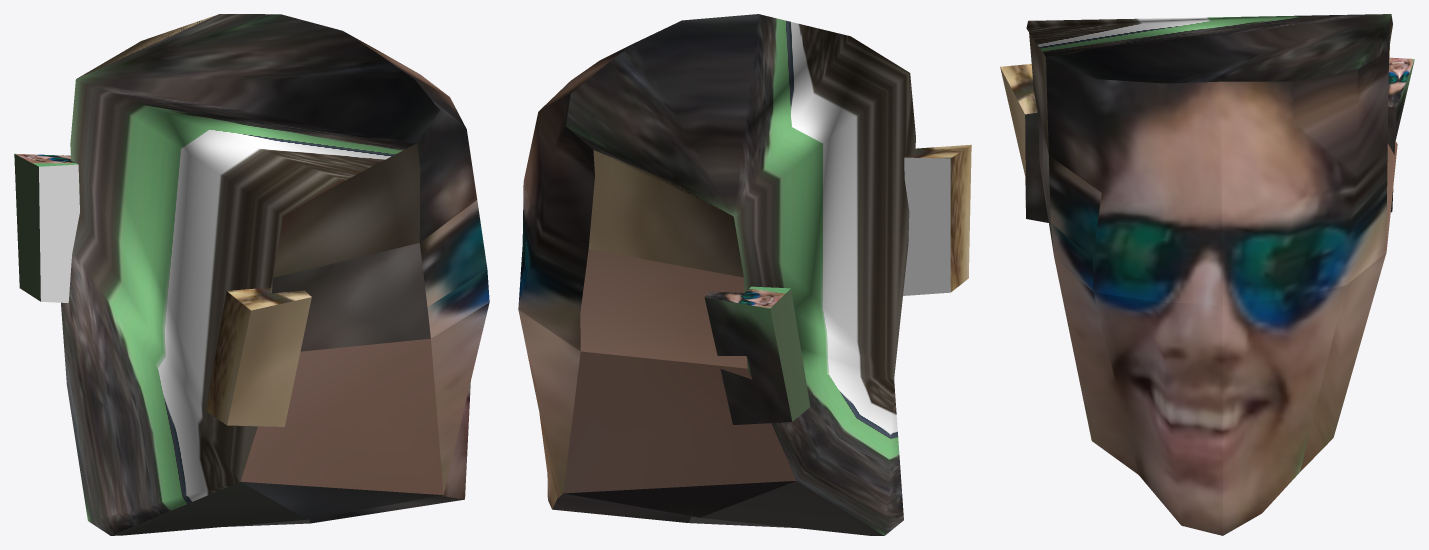
File: shreyas2.fbx
The picture shows the model from 3 angles, left to right: view 1: azimuth 30°, elevation 25°; view 2: azimuth 150°, elevation 25°; view 3: azimuth 270°, elevation 25°; orthographic projection. The views are drawn at different scales.
Visible parts, largest first — view 1: Cylinder; view 2: Cylinder; view 3: Cylinder.
Part boxes in pixels (bbox=[...]): Cylinder: bbox=[14, 14, 489, 535]; Cylinder: bbox=[518, 14, 971, 535]; Cylinder: bbox=[1000, 14, 1414, 535].
Size of the model in its own units: 61.33 by 75.27 by 66.23.
Materials: 1 (1 with a texture image).
